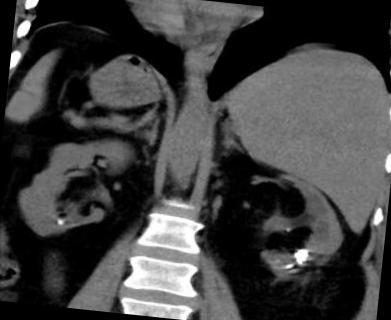Tas_Var: (292, 246, 309, 266), (282, 261, 296, 272), (54, 216, 66, 227), (282, 226, 292, 233)
